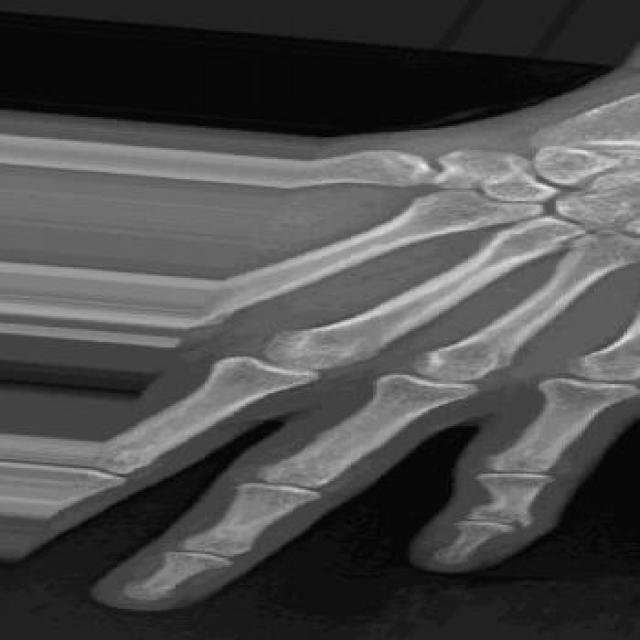Fracture: (461, 507, 556, 537)
